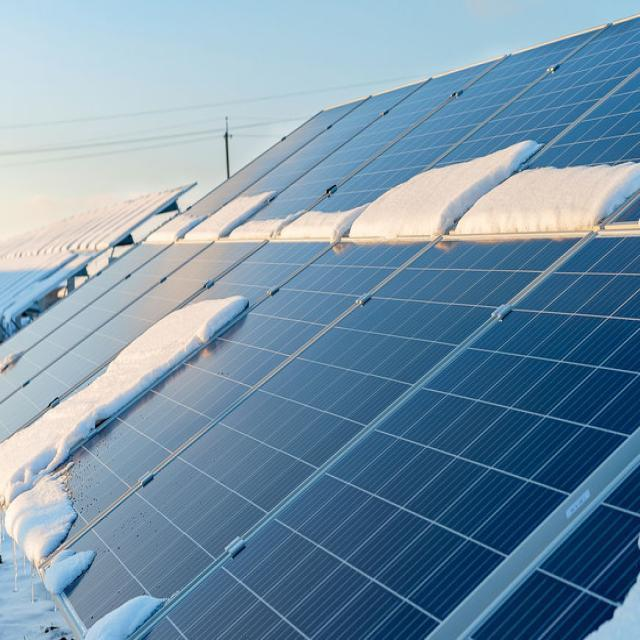Anomaly Solar Panel: (43, 234, 591, 639), (3, 238, 435, 563), (0, 241, 334, 498), (272, 24, 610, 239), (342, 15, 640, 239), (0, 241, 265, 443), (221, 57, 503, 239), (180, 79, 429, 239), (145, 97, 370, 241), (449, 67, 640, 235)
Normal Solar Panel: (135, 233, 640, 640)
Snow: (0, 299, 244, 567), (355, 146, 537, 239), (449, 161, 639, 234), (136, 191, 293, 244), (80, 585, 177, 640), (40, 536, 104, 604), (273, 204, 363, 244), (1, 344, 31, 376)
